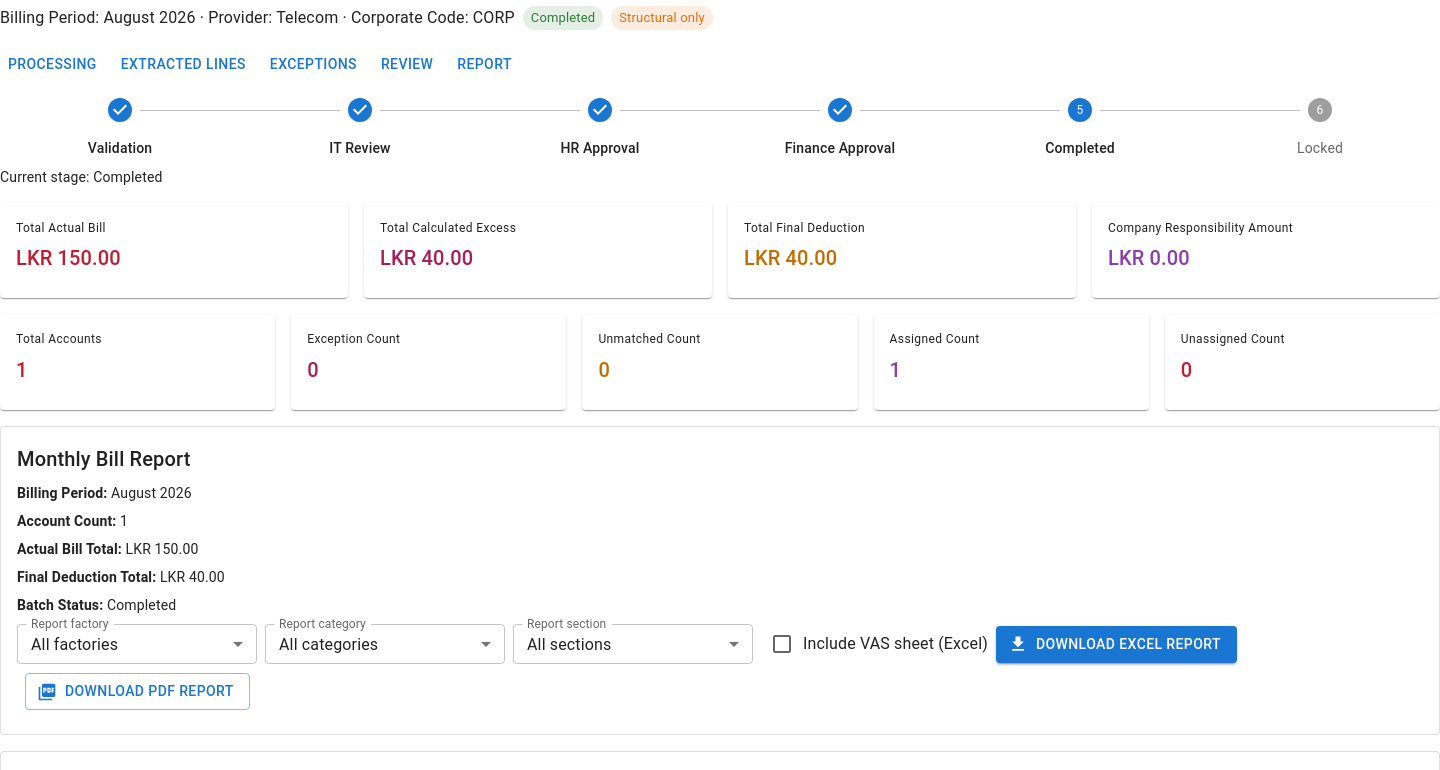
Scenario: MonthlyBillReviewPage workflow and reporting › shows reconciliation errors without creating a download
The image size is (1440, 770).
Click the button "Download Excel Report": (1116, 644) [996,626,1237,663]
(page scrolled)
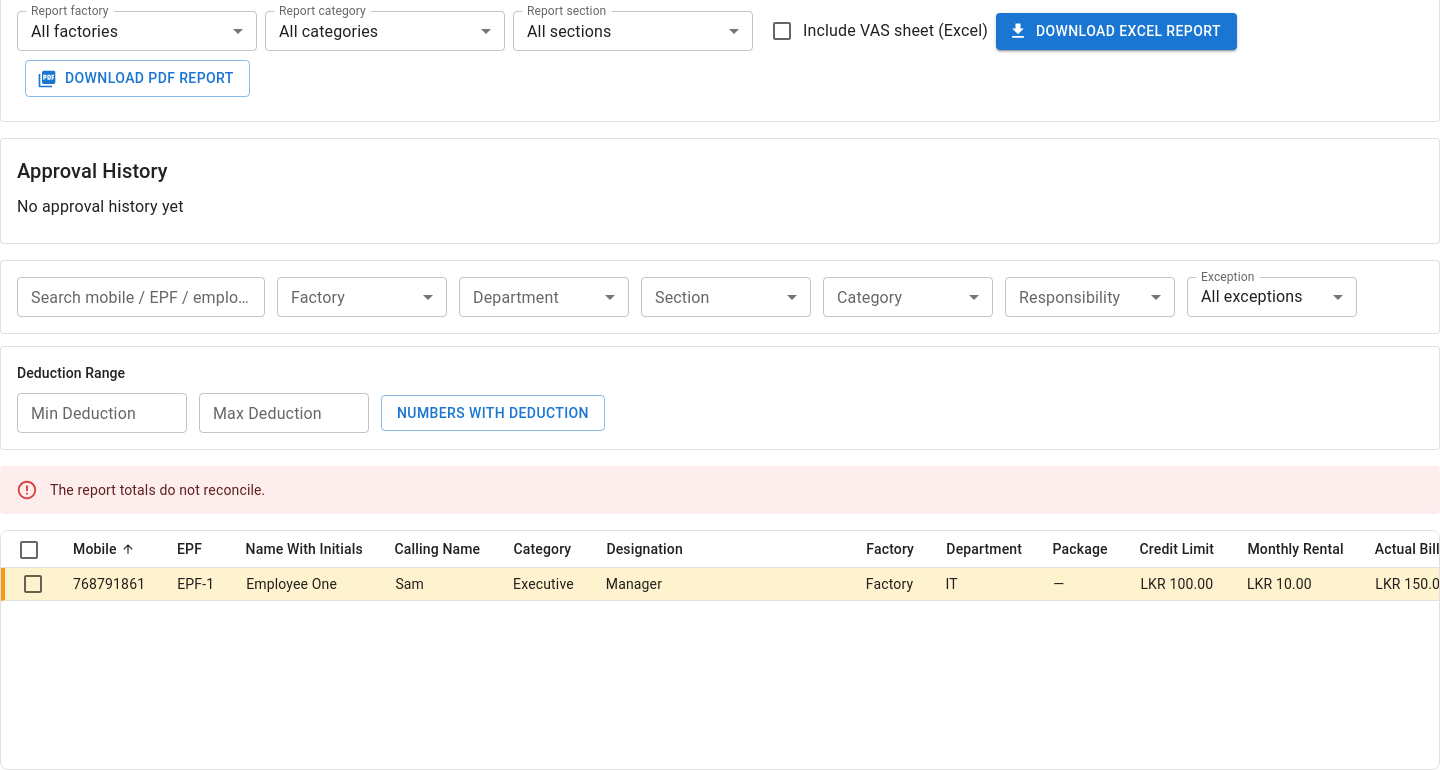
Now the text "The report totals do not reconcile." is shown, box [50,482,265,498]
